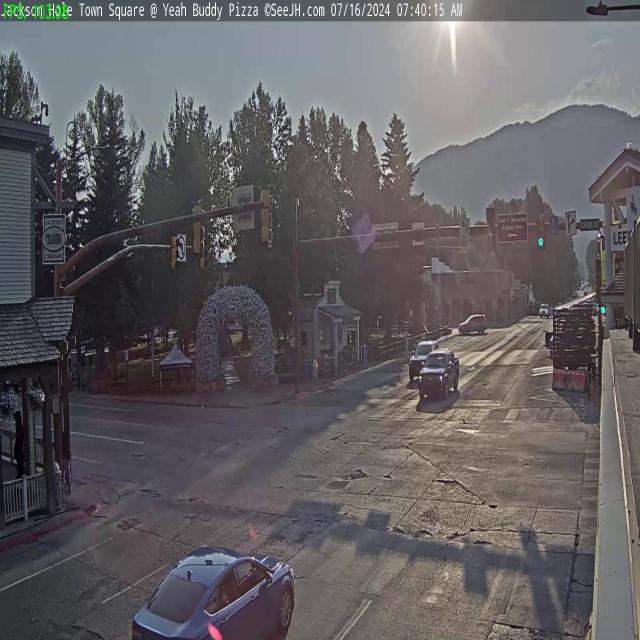person: (61, 422, 72, 491)
pickup: (420, 346, 460, 399), (408, 339, 439, 379)
sedan: (128, 541, 300, 639)
suv: (459, 312, 487, 336)
traffic light: (260, 185, 272, 245), (191, 200, 203, 256), (487, 208, 496, 254), (170, 235, 178, 272), (537, 214, 545, 248)
